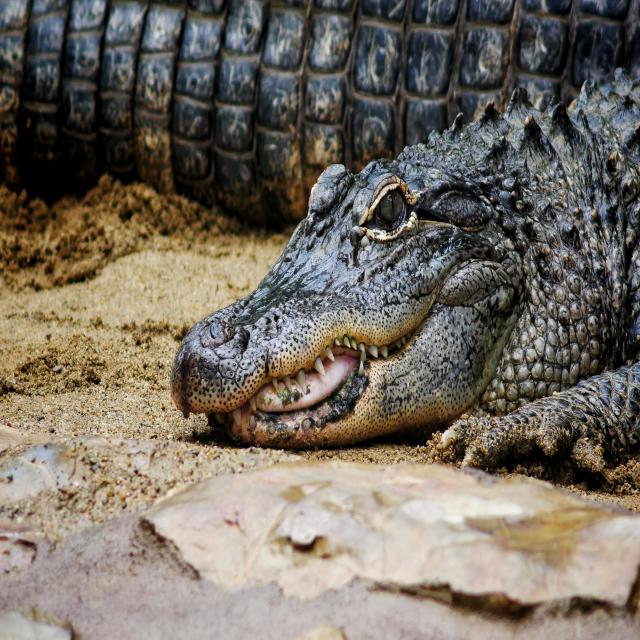crocodile: (4, 0, 639, 474)
